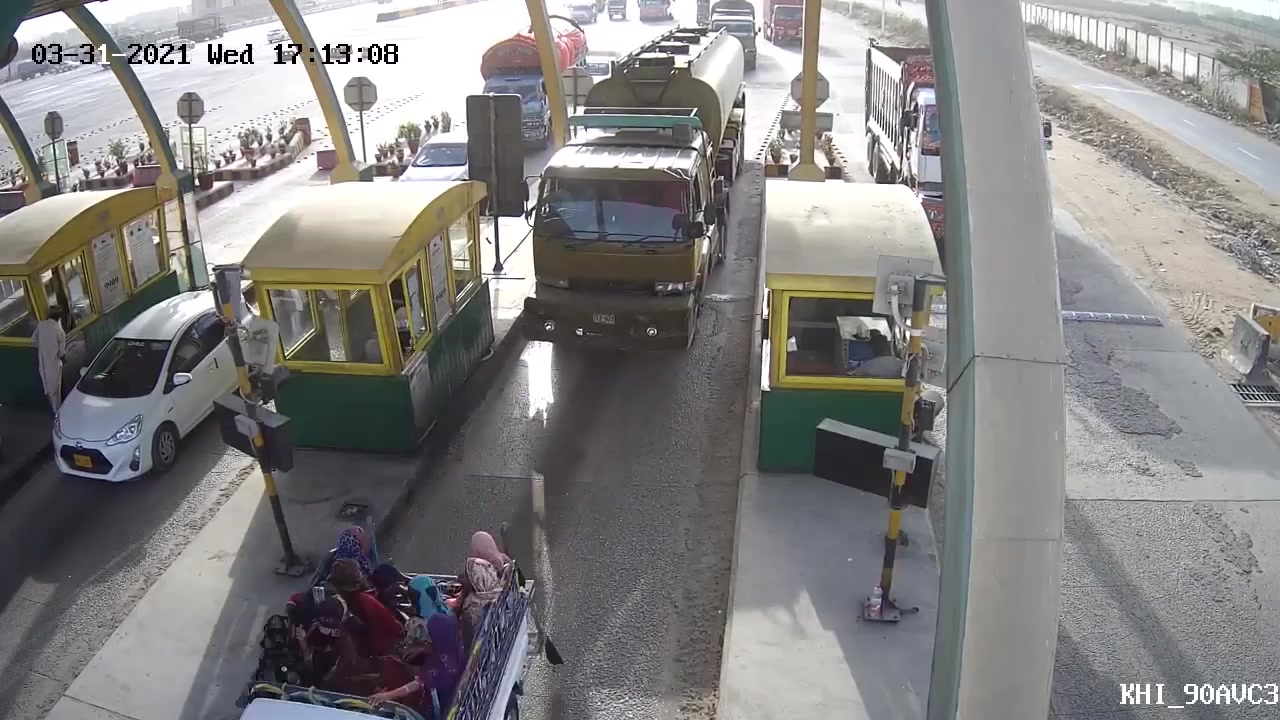F6: (530, 16, 751, 365)
